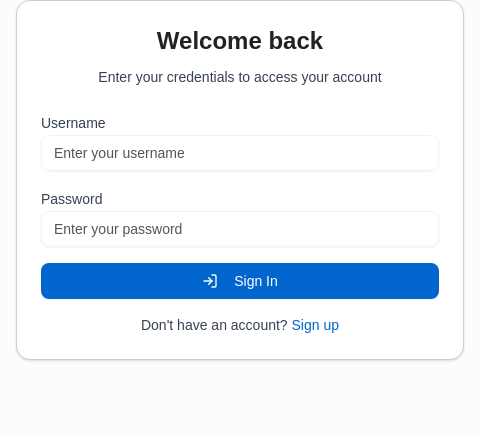
LoginForm › validates that username and password are required
Click the button "Sign In" at (240, 281), box [41,263,439,299]
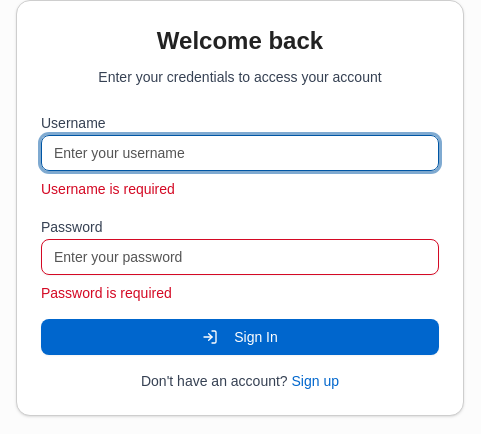
Expected: the text "Username is required" is shown, [41,181,175,197]
Expected: the text "Password is required" is shown, [41,285,172,301]
